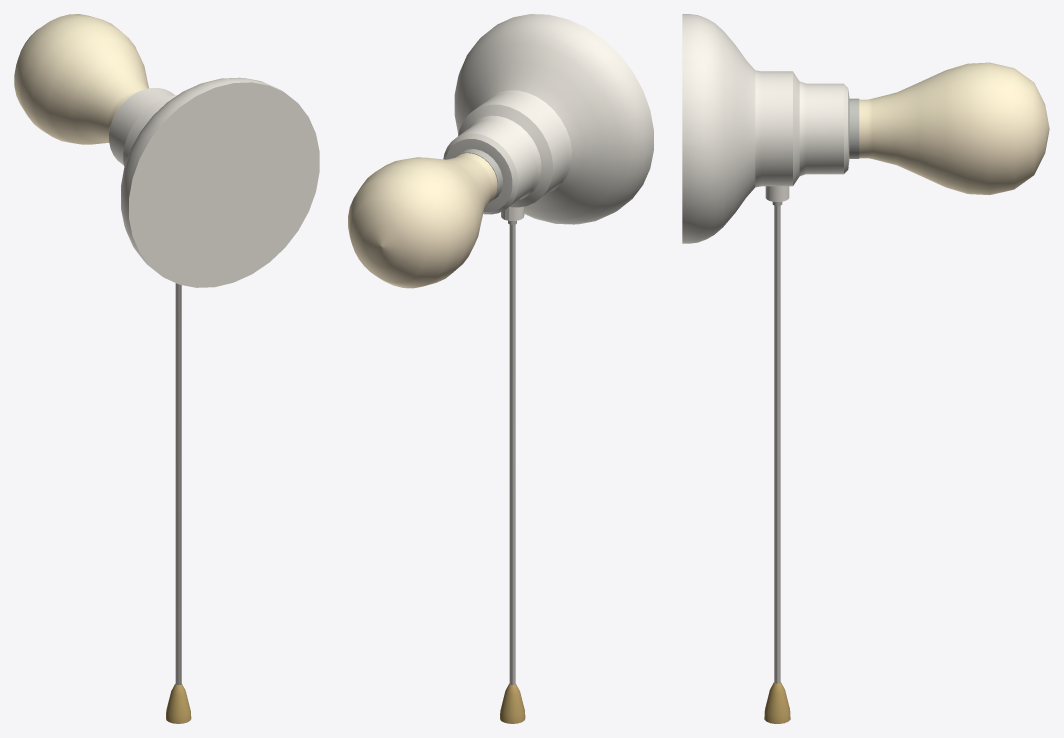
Rendered from wall_lit.obj.
The picture shows the model from 3 angles, left to right: view 1: azimuth 30°, elevation 25°; view 2: azimuth 150°, elevation 25°; view 3: azimuth 270°, elevation 25°; orthographic projection. The views are drawn at different scales.
Parts seen in each view (by area): view 1: wall_porcelain, wall_bulb_lit, wall_chain, wall_pull; view 2: wall_porcelain, wall_bulb_lit, wall_chain, wall_pull; view 3: wall_porcelain, wall_bulb_lit, wall_chain, wall_pull, wall_shell.
Part boxes in pixels (x1,y1,x2,y2): wall_porcelain: [109, 77, 319, 287]; wall_bulb_lit: [14, 14, 148, 144]; wall_chain: [175, 283, 181, 685]; wall_pull: [166, 683, 191, 723]; wall_porcelain: [443, 14, 653, 224]; wall_bulb_lit: [348, 153, 497, 288]; wall_chain: [509, 224, 515, 685]; wall_pull: [500, 683, 525, 723]; wall_porcelain: [682, 14, 849, 243]; wall_bulb_lit: [859, 62, 1049, 194]; wall_chain: [774, 205, 780, 683]; wall_pull: [764, 682, 790, 723]; wall_shell: [849, 98, 859, 158].
Size of the model in its own units: 0.1035 by 0.3457 by 0.166.
